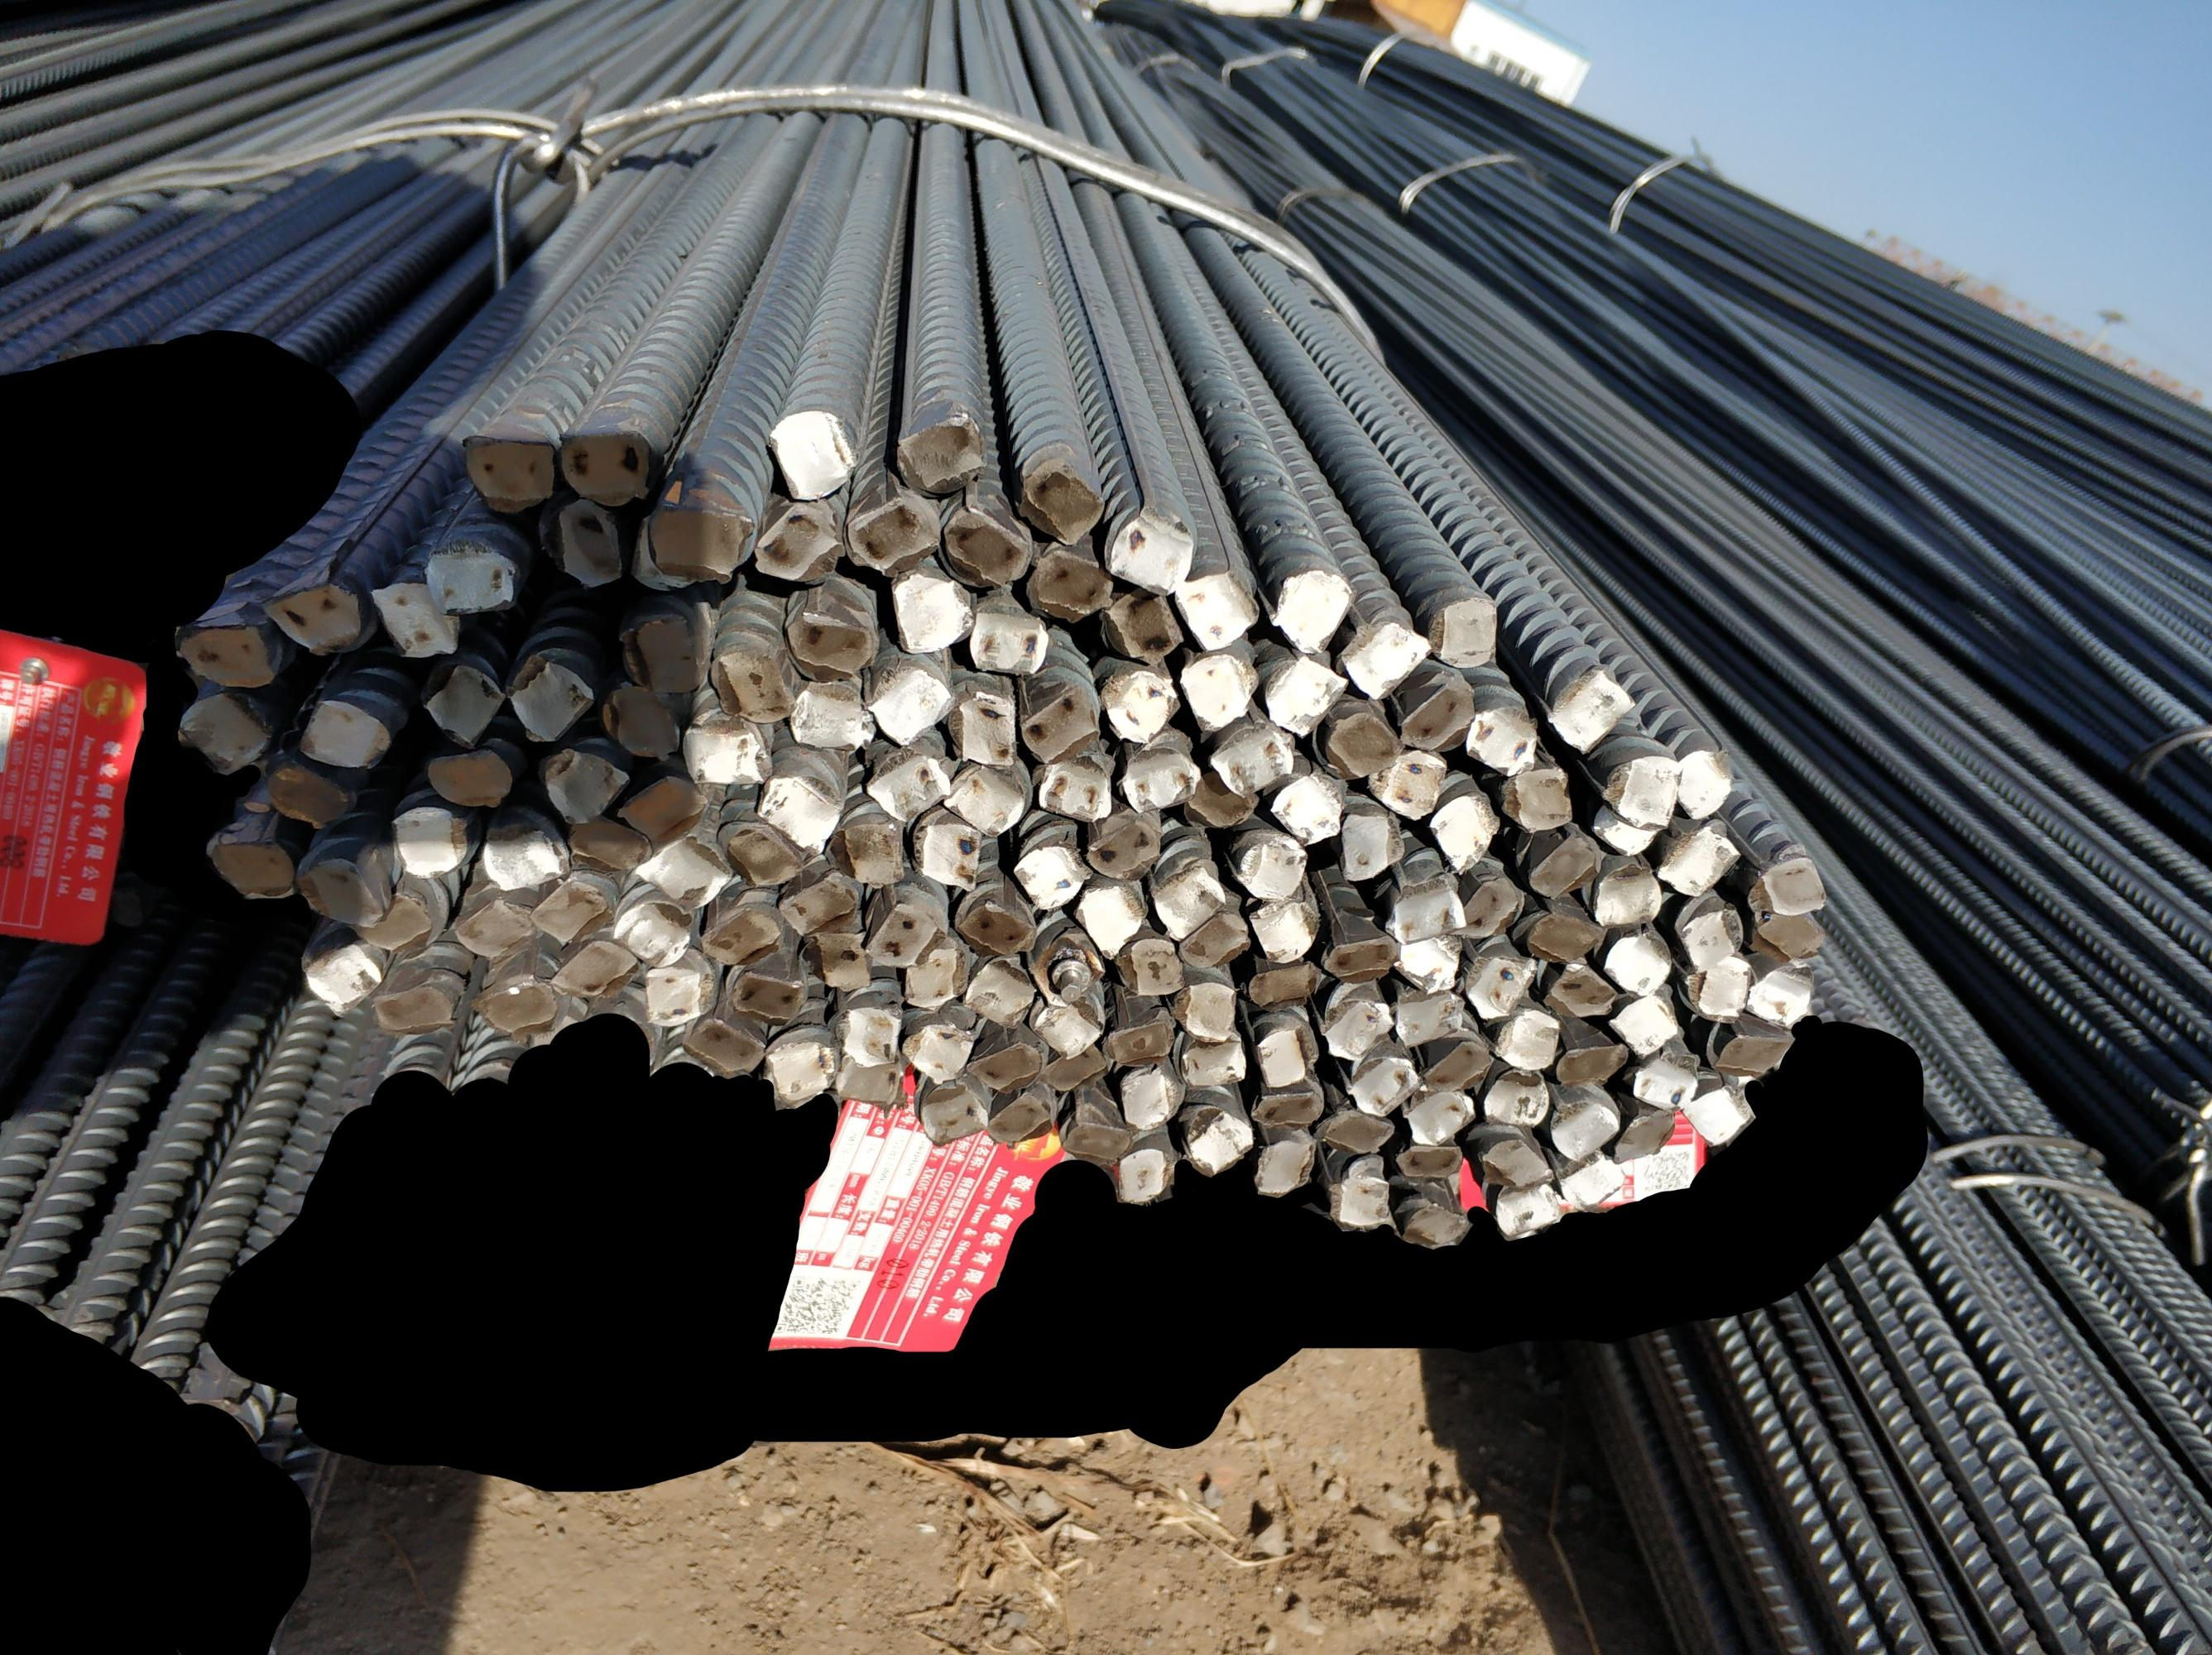bar: (646, 492, 752, 584), (765, 410, 858, 504), (938, 502, 1034, 595), (862, 661, 956, 751), (844, 489, 940, 577), (459, 429, 558, 515), (1105, 506, 1195, 598), (177, 692, 275, 777), (619, 607, 709, 697), (898, 409, 989, 499), (1017, 457, 1107, 548), (1545, 664, 1635, 754), (782, 603, 879, 687), (558, 426, 655, 508), (506, 655, 594, 744), (1268, 568, 1359, 655), (422, 539, 521, 617), (754, 774, 844, 859), (752, 502, 844, 586), (1341, 619, 1435, 701), (634, 831, 733, 907), (1263, 654, 1350, 741), (261, 581, 361, 655), (1023, 544, 1116, 626), (1020, 675, 1102, 767), (888, 567, 975, 652), (370, 581, 464, 659), (1100, 664, 1185, 749), (422, 662, 507, 746), (1098, 584, 1185, 666), (615, 772, 709, 847), (261, 758, 356, 831), (179, 619, 276, 690), (785, 678, 878, 753), (1173, 570, 1256, 652), (966, 600, 1051, 680), (540, 748, 629, 824), (707, 647, 796, 723), (205, 831, 297, 904), (681, 716, 775, 788), (295, 699, 391, 768), (1208, 721, 1300, 793), (556, 495, 626, 589), (299, 940, 384, 1017), (1656, 822, 1741, 899), (865, 751, 954, 824), (1178, 652, 1258, 732), (942, 761, 1027, 836), (295, 855, 382, 928), (643, 946, 723, 1024), (603, 681, 683, 760), (1150, 861, 1225, 944), (547, 939, 641, 1005), (950, 683, 1022, 770), (1602, 756, 1684, 831), (480, 821, 572, 887), (1423, 595, 1501, 671), (389, 803, 469, 878), (1368, 746, 1447, 821), (424, 744, 514, 810), (1270, 770, 1347, 847), (911, 814, 983, 894), (1430, 791, 1501, 873), (1383, 876, 1467, 946), (719, 822, 805, 890), (1116, 744, 1202, 810), (1175, 1104, 1253, 1177), (865, 899, 945, 970), (530, 876, 612, 946), (1034, 754, 1116, 824), (1322, 709, 1404, 779), (613, 899, 697, 967), (349, 888, 434, 954), (1463, 704, 1538, 779), (959, 958, 1036, 1031), (1074, 880, 1145, 958), (777, 874, 860, 940), (956, 897, 1039, 963), (763, 1038, 839, 1109), (1032, 934, 1109, 1005), (1399, 680, 1475, 751), (1524, 827, 1600, 899), (452, 897, 539, 960), (681, 1014, 768, 1076), (796, 927, 876, 994), (900, 930, 968, 1010), (1496, 765, 1576, 833), (1748, 852, 1828, 920), (1463, 947, 1534, 1022), (1679, 1083, 1757, 1151), (702, 902, 782, 968), (1013, 841, 1088, 911), (1084, 814, 1161, 881), (1246, 897, 1322, 965), (474, 975, 560, 1036), (825, 822, 905, 887), (1027, 993, 1107, 1057), (1237, 831, 1310, 901), (1343, 1052, 1421, 1116), (1491, 1001, 1562, 1071), (1590, 861, 1661, 930), (1675, 901, 1745, 972), (1607, 991, 1680, 1059), (1679, 956, 1752, 1024), (565, 814, 648, 873), (916, 1078, 987, 1146), (1340, 810, 1407, 881), (963, 1036, 1044, 1095), (1119, 1057, 1183, 1132), (730, 967, 806, 1029), (1600, 930, 1672, 996), (1183, 768, 1258, 831), (370, 980, 454, 1036), (1748, 909, 1826, 968), (836, 1001, 904, 1069), (902, 1019, 973, 1083), (1672, 744, 1732, 819), (1394, 930, 1460, 998), (1746, 963, 1814, 1029), (1548, 1095, 1618, 1160), (1706, 1026, 1795, 1076), (1176, 909, 1251, 968), (1552, 1151, 1626, 1210), (1541, 961, 1618, 1019), (1169, 979, 1237, 1043), (1482, 1064, 1550, 1128), (1494, 1179, 1562, 1243), (1321, 996, 1390, 1059), (1326, 1172, 1395, 1234), (1402, 1087, 1475, 1146), (1390, 989, 1465, 1047), (1251, 1024, 1317, 1088), (1255, 1135, 1317, 1203), (1461, 874, 1524, 942), (1315, 1102, 1395, 1154), (1477, 1133, 1552, 1189), (834, 1050, 904, 1109), (1423, 1036, 1493, 1095), (1630, 1052, 1699, 1111), (1246, 956, 1324, 1008), (1526, 909, 1602, 961), (1588, 801, 1658, 859), (1062, 1113, 1133, 1168), (1126, 934, 1185, 1000), (1611, 1106, 1679, 1163), (985, 1092, 1056, 1146), (1117, 1144, 1178, 1206), (1322, 932, 1395, 984), (1176, 1038, 1248, 1090), (1039, 1041, 1105, 1097), (1553, 1040, 1628, 1087), (1103, 1017, 1173, 1067), (1402, 1201, 1472, 1250), (1249, 1087, 1324, 1132), (1392, 1140, 1465, 1186)
